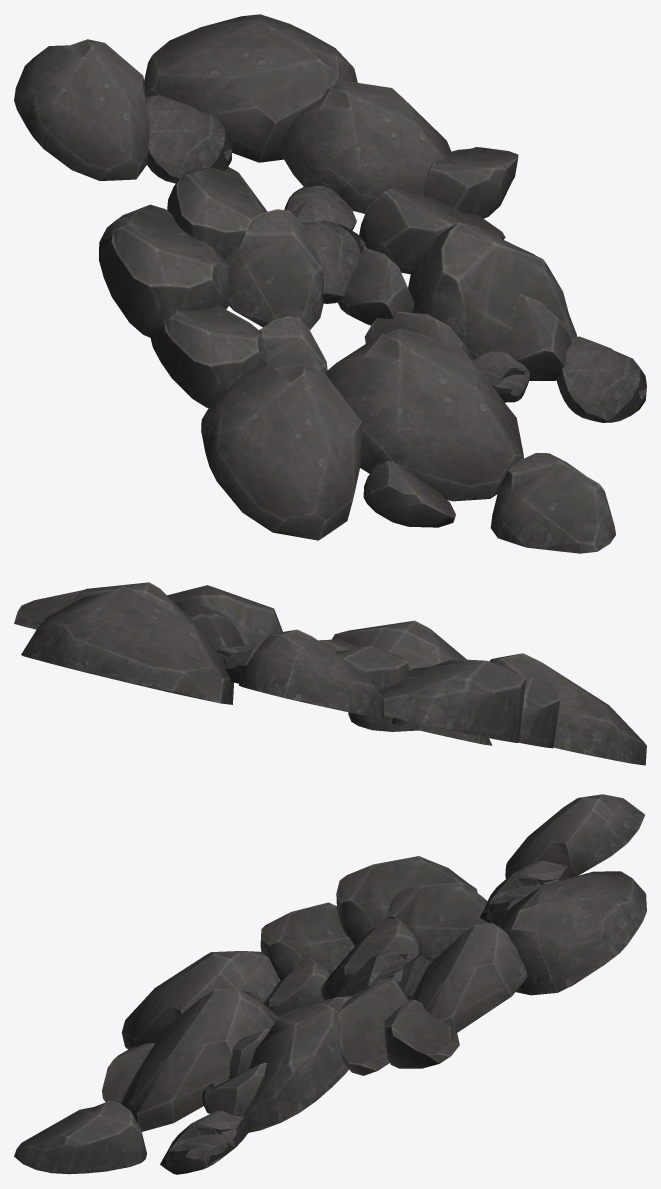
Rendered from mines_rocks_001b.fbx.
3 renders of one model, top to bottom at view 1: azimuth 30°, elevation 25°; view 2: azimuth 150°, elevation 25°; view 3: azimuth 270°, elevation 25°, orthographic. The views are drawn at different scales.
Visible parts, largest first — view 1: mines_rocks_001b; view 2: mines_rocks_001b; view 3: mines_rocks_001b.
Boxes of the visible parts, x1,y1,x2,y2 form: mines_rocks_001b: [14, 14, 646, 553]; mines_rocks_001b: [14, 582, 646, 765]; mines_rocks_001b: [14, 794, 646, 1174].
Size of the model in its own units: 179 by 126 by 259.
